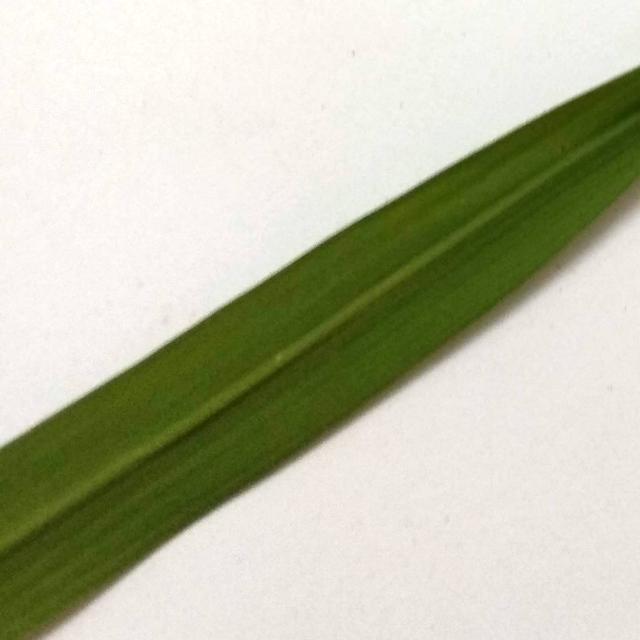Rice_Healthy: (0, 68, 640, 640)
